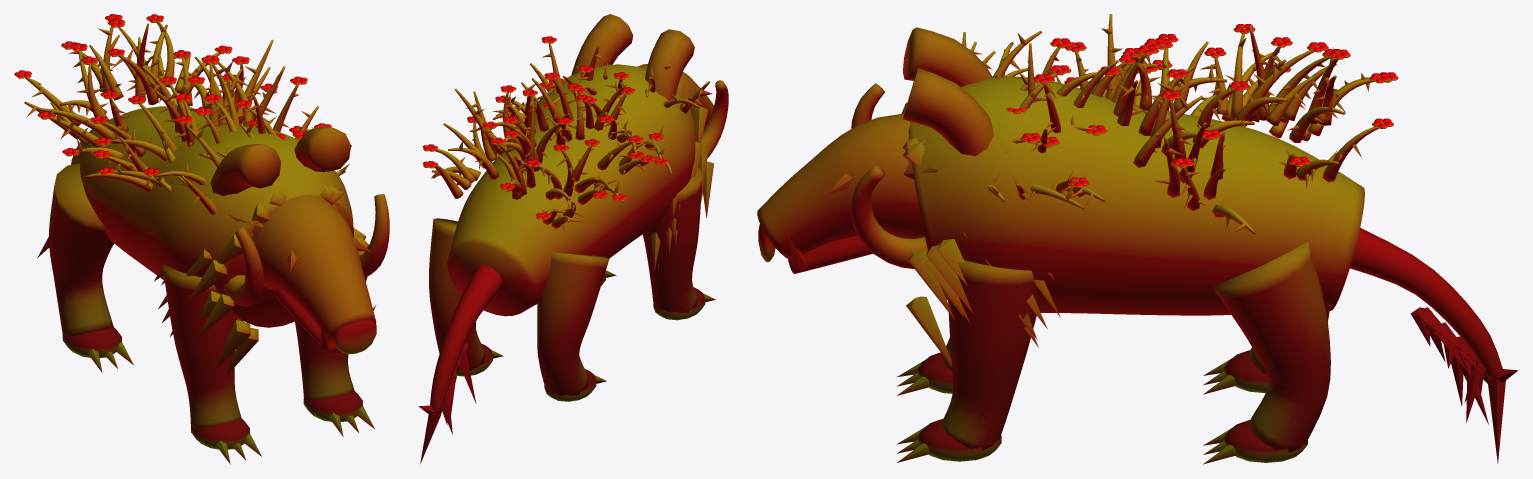
Rendered from beast.glb.
3 renders of one model, left to right at view 1: azimuth 30°, elevation 25°; view 2: azimuth 150°, elevation 25°; view 3: azimuth 270°, elevation 25°, orthographic. The views are drawn at different scales.
Visible parts, largest first — view 1: body, head, leg_bl, leg_fl, leg_fr, jaw; view 2: body, leg_bl, head, leg_fl, tail, leg_br; view 3: body, head, leg_br, leg_fr, tail, leg_bl, jaw, leg_fl.
Boxes of the visible parts, x1,y1,x2,y2 form: body: [14, 14, 368, 373]; head: [210, 127, 389, 354]; leg_bl: [49, 163, 133, 372]; leg_fl: [162, 263, 261, 464]; leg_fr: [295, 321, 374, 436]; jaw: [274, 289, 375, 354]; body: [422, 36, 713, 316]; leg_bl: [537, 252, 609, 401]; head: [571, 14, 728, 158]; leg_fl: [642, 167, 715, 320]; tail: [418, 265, 502, 463]; leg_br: [429, 218, 503, 376]; body: [901, 14, 1398, 366]; head: [757, 27, 993, 268]; leg_br: [1203, 241, 1330, 464]; leg_fr: [897, 260, 1039, 462]; tail: [1350, 228, 1517, 463]; leg_bl: [1203, 311, 1329, 394]; jaw: [784, 230, 892, 273]; leg_fl: [897, 337, 952, 395].
Bounding box in the file's own units: 2.01 × 2.94 × 4.8.
